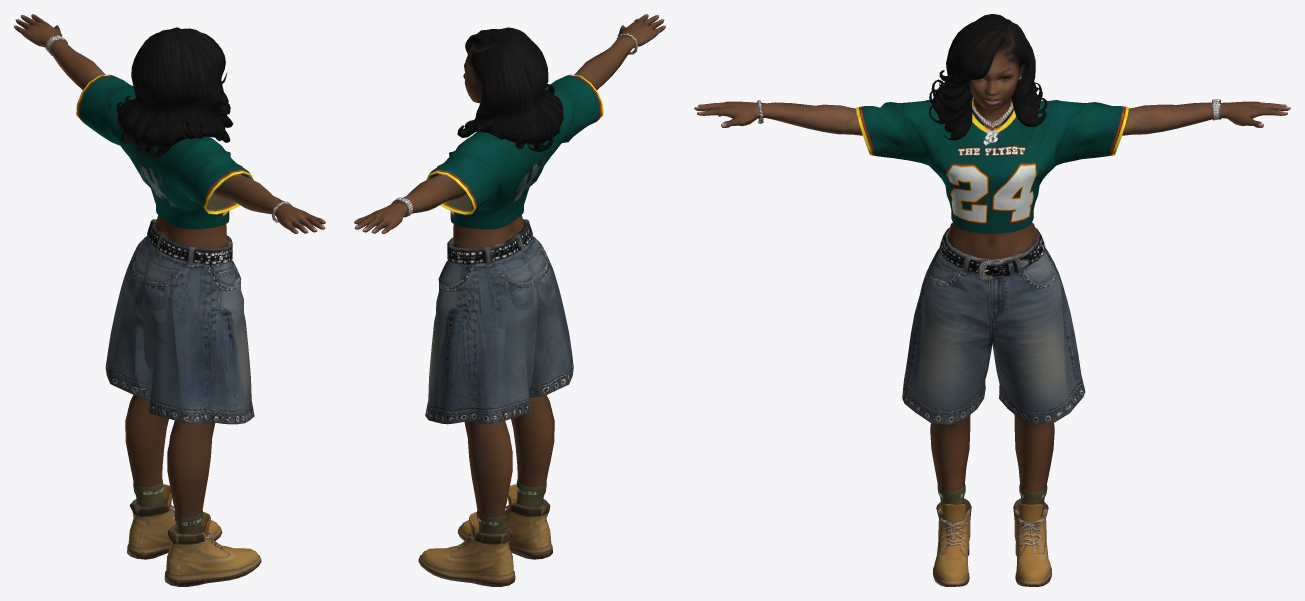
The model's file is femalecharacter3dmodel2.glb.
The picture shows the model from 3 angles, left to right: view 1: azimuth 30°, elevation 25°; view 2: azimuth 150°, elevation 25°; view 3: azimuth 270°, elevation 25°; orthographic projection.
Parts seen in each view (by area): view 1: tripo_node_1f82d683-e7fa-45b7-828f-5a5dac50a489; view 2: tripo_node_1f82d683-e7fa-45b7-828f-5a5dac50a489; view 3: tripo_node_1f82d683-e7fa-45b7-828f-5a5dac50a489.
Boxes of the visible parts, bbox=[...] form: tripo_node_1f82d683-e7fa-45b7-828f-5a5dac50a489: bbox=[14, 14, 325, 586]; tripo_node_1f82d683-e7fa-45b7-828f-5a5dac50a489: bbox=[354, 14, 665, 586]; tripo_node_1f82d683-e7fa-45b7-828f-5a5dac50a489: bbox=[694, 14, 1290, 586].
Bounding box in the file's own units: 0.228 × 0.9995 × 0.9976.
1 material, 1 textured.
